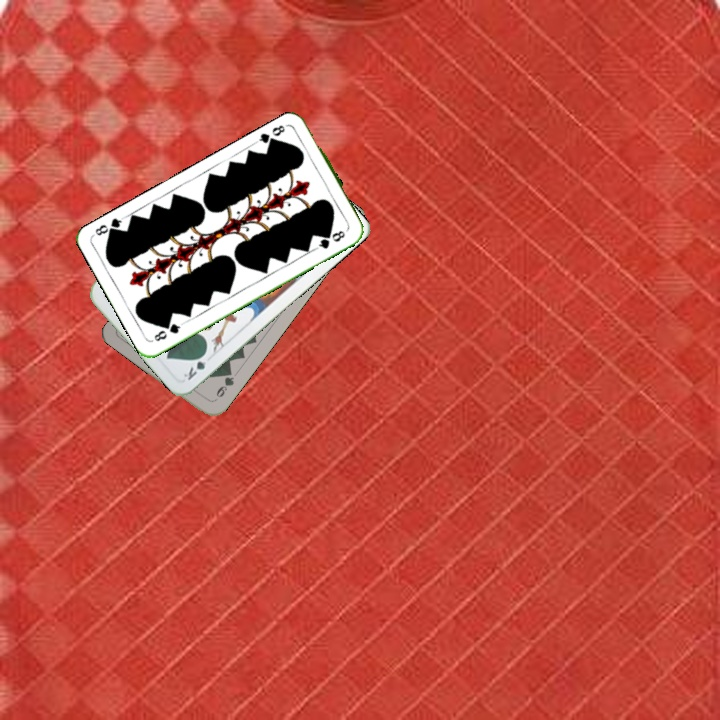G8: (253, 120, 291, 149), (150, 319, 186, 344)
G9: (210, 366, 237, 404)
GK: (180, 348, 209, 383)
